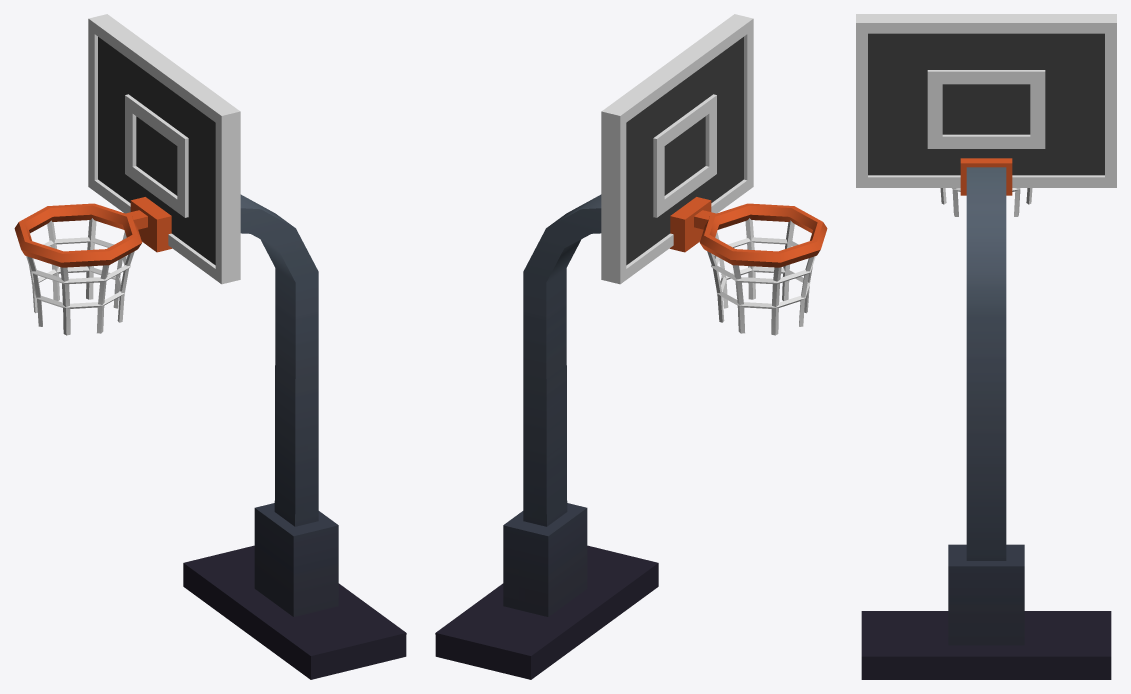
File: Basketball_Stand_C.fbx
The picture shows the model from 3 angles, left to right: view 1: azimuth 30°, elevation 25°; view 2: azimuth 150°, elevation 25°; view 3: azimuth 270°, elevation 25°; orthographic projection. The views are drawn at different scales.
Visible parts, largest first — view 1: Basketball_Stand_C; view 2: Basketball_Stand_C; view 3: Basketball_Stand_C.
Part boxes in pixels (left/top/right/bottom): Basketball_Stand_C: left=14, top=14, right=406, bottom=679; Basketball_Stand_C: left=435, top=14, right=827, bottom=679; Basketball_Stand_C: left=856, top=14, right=1116, bottom=679.
Size of the model in its own units: 215 by 376 by 154.
